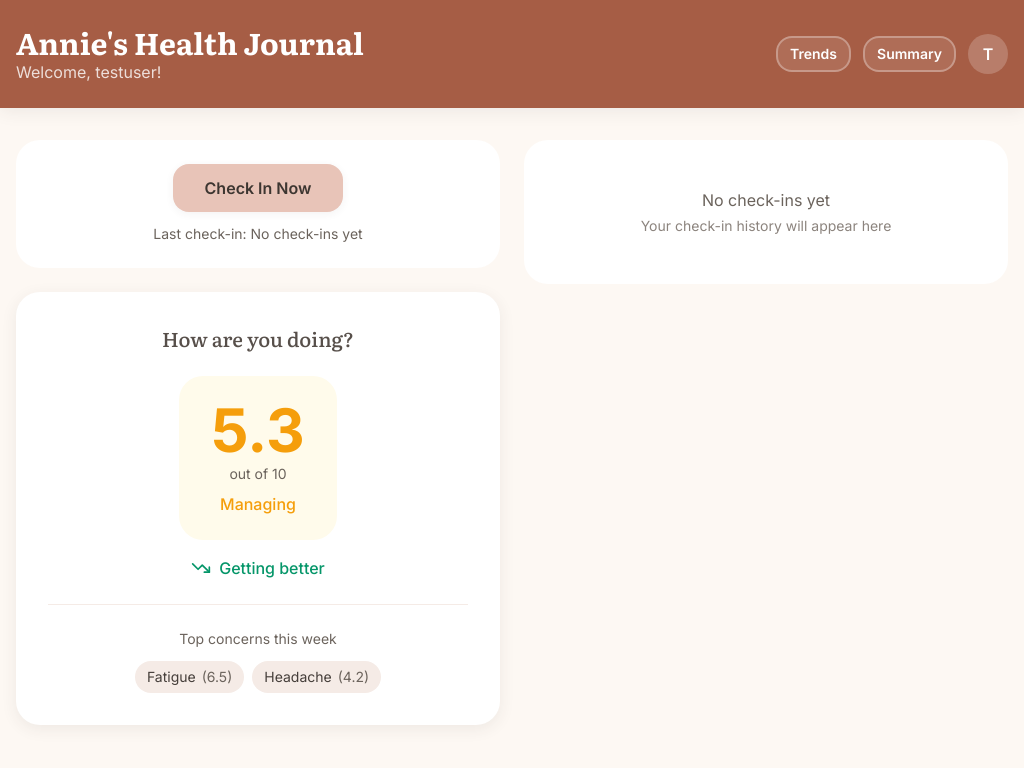
Test: DashboardPage › Header and Navigation › opens profile dropdown and shows settings option
The width and height of the screenshot is (1024, 768).
Click the button named "user menu". click: (988, 54)
box: [968, 34, 1008, 74]
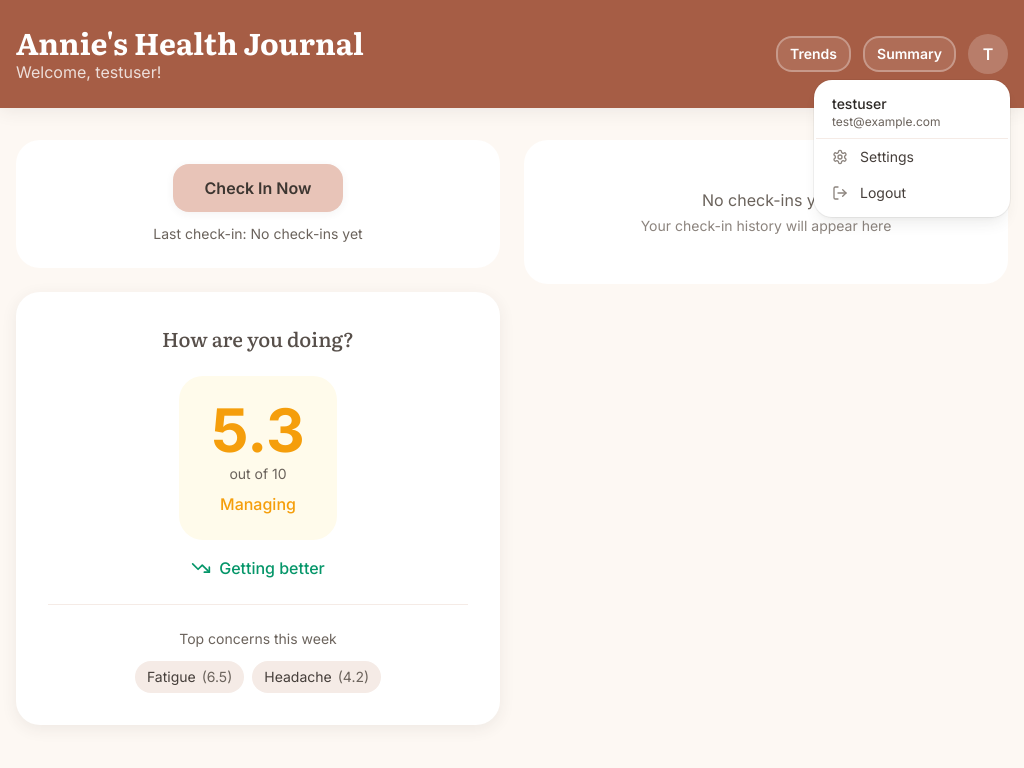
Expected: the menu item "Settings" is shown, [816, 139, 1008, 175]
